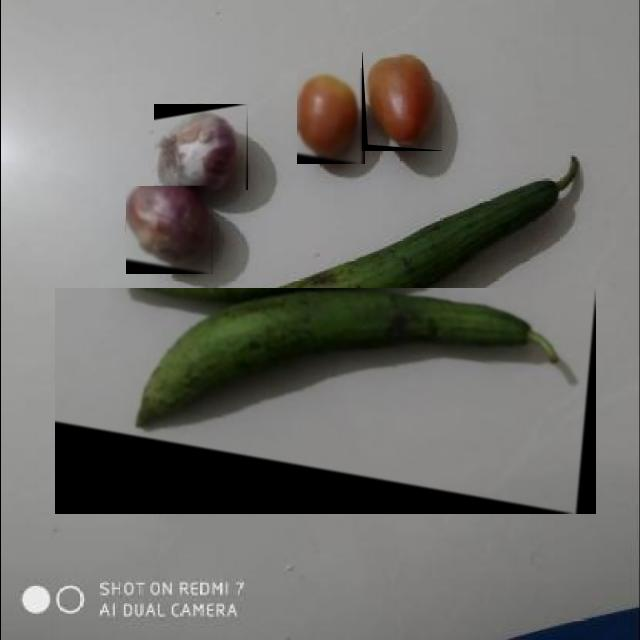2: (153, 104, 247, 190), (125, 186, 212, 274)
4: (54, 288, 595, 514)
tomato: (361, 52, 441, 151), (296, 68, 364, 164)
